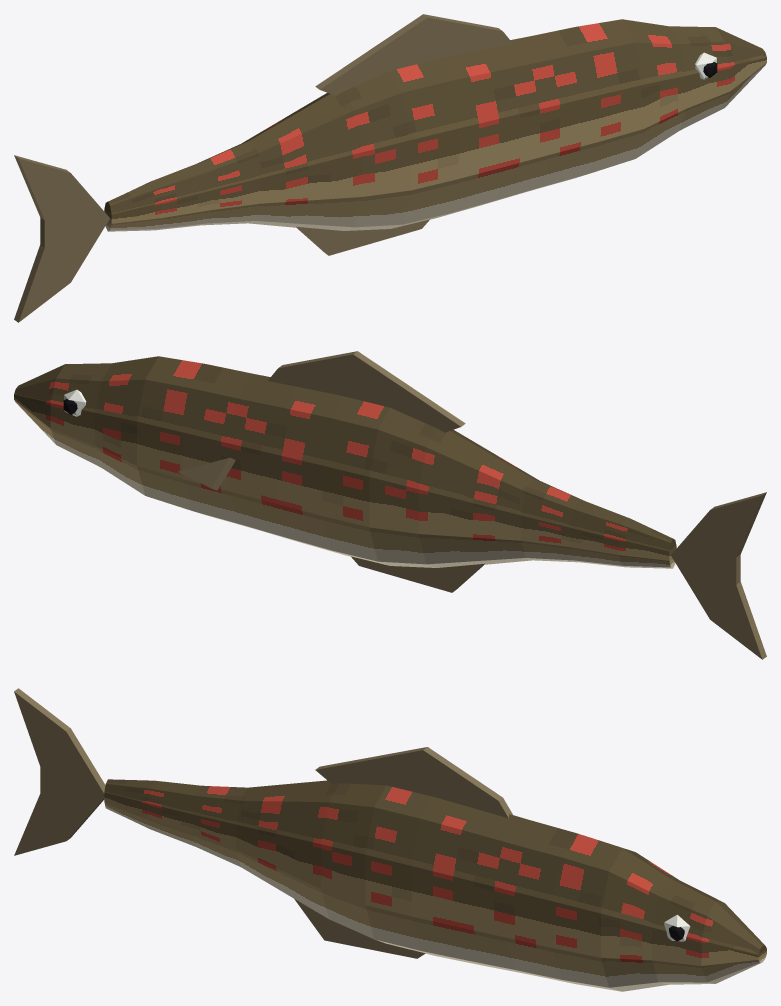
File: brown_trout.glb
The picture shows the model from 3 angles, top to bottom: view 1: azimuth 30°, elevation 25°; view 2: azimuth 150°, elevation 25°; view 3: azimuth 330°, elevation 25°; orthographic projection.
Parts seen in each view (by area): view 1: fish_brown_trout; view 2: fish_brown_trout; view 3: fish_brown_trout.
Boxes of the visible parts, bbox=[...] form: fish_brown_trout: bbox=[14, 14, 766, 322]; fish_brown_trout: bbox=[14, 351, 766, 659]; fish_brown_trout: bbox=[14, 688, 766, 991].
Bounding box in the file's own units: 1.14 × 0.3129 × 0.1501.
Materials: 4 (1 with a texture image).
